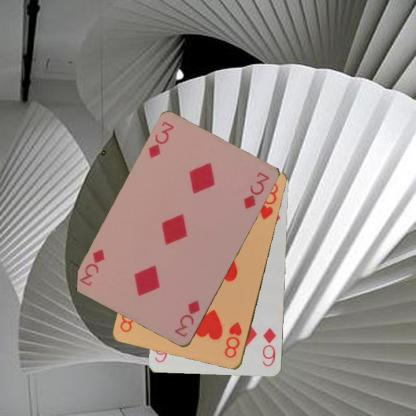3d: (146, 118, 176, 160), (172, 298, 202, 339)
6d: (260, 326, 277, 368)
8h: (222, 320, 244, 360)
